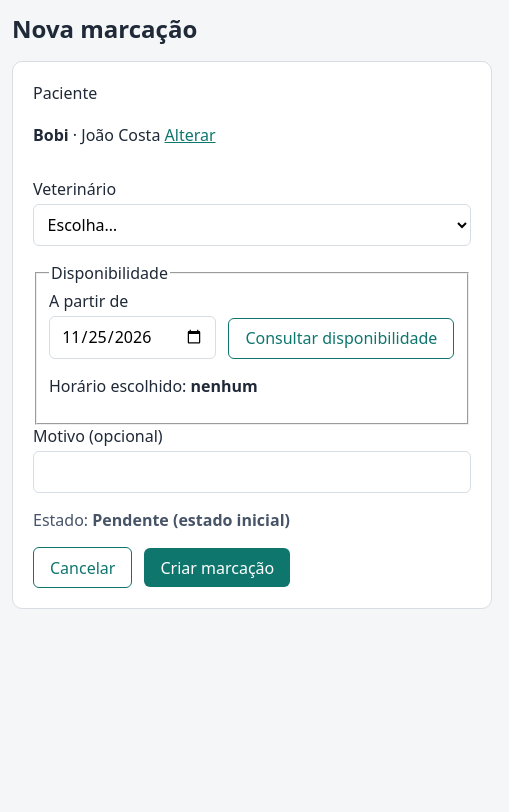
Test: W10 — nova marcação › consulta a disponibilidade do Veterinário e mostra só os horários livres
The width and height of the screenshot is (509, 812).
Step 1. Select "Dra. Ana" in the dropdown labelled "Veterinário" → [252, 225], box [33,204,471,246]
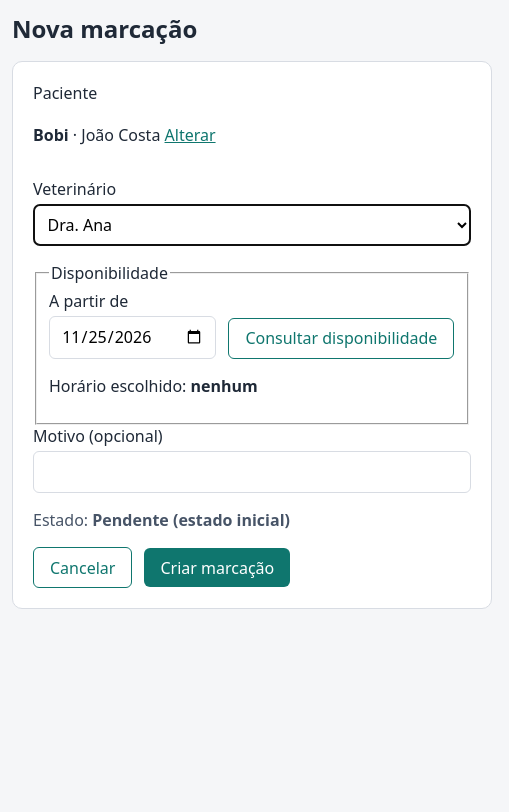
Step 2. Click the button "Consultar disponibilidade" → [341, 338], box [228,318,454,359]
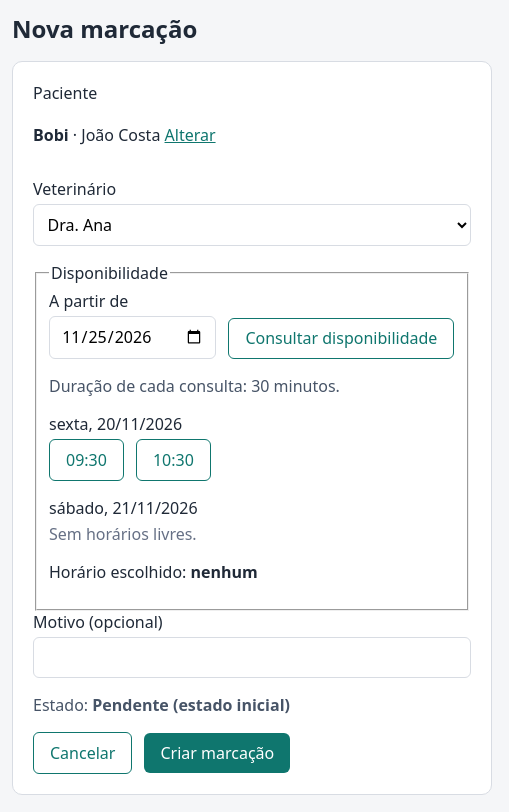
Expected: the element named "Horários livres" shows "Sem horários livres.", [49,523,197,545]
Expected: the element named "Horários livres" shows "30 minutos", [49,375,340,545]
